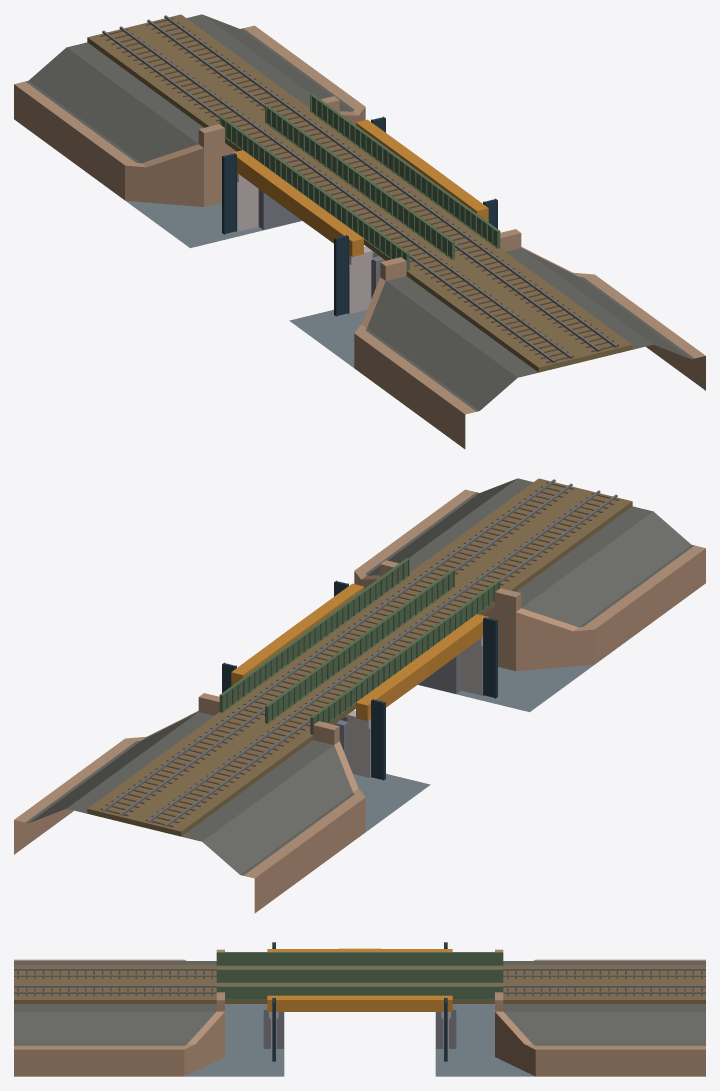
The model's file is Cartoon_WorkspaceV5.fbx.
3 renders of one model, top to bottom at view 1: azimuth 30°, elevation 25°; view 2: azimuth 150°, elevation 25°; view 3: azimuth 270°, elevation 25°, orthographic. The views are drawn at different scales.
Visible parts, largest first — view 1: Brdge_Outer, Bridge_Middle; view 2: Brdge_Outer, Bridge_Middle; view 3: Brdge_Outer, Bridge_Middle.
Part boxes in pixels (x1=…): Brdge_Outer: x1=14, y1=14, x2=705, y2=449; Bridge_Middle: x1=219, y1=94, x2=500, y2=316; Brdge_Outer: x1=14, y1=478, x2=705, y2=913; Bridge_Middle: x1=219, y1=558, x2=500, y2=780; Brdge_Outer: x1=14, y1=949, x2=705, y2=1076; Bridge_Middle: x1=216, y1=942, x2=503, y2=1061.
Bounding box in the file's own units: 25.25 × 8.13 × 82.
